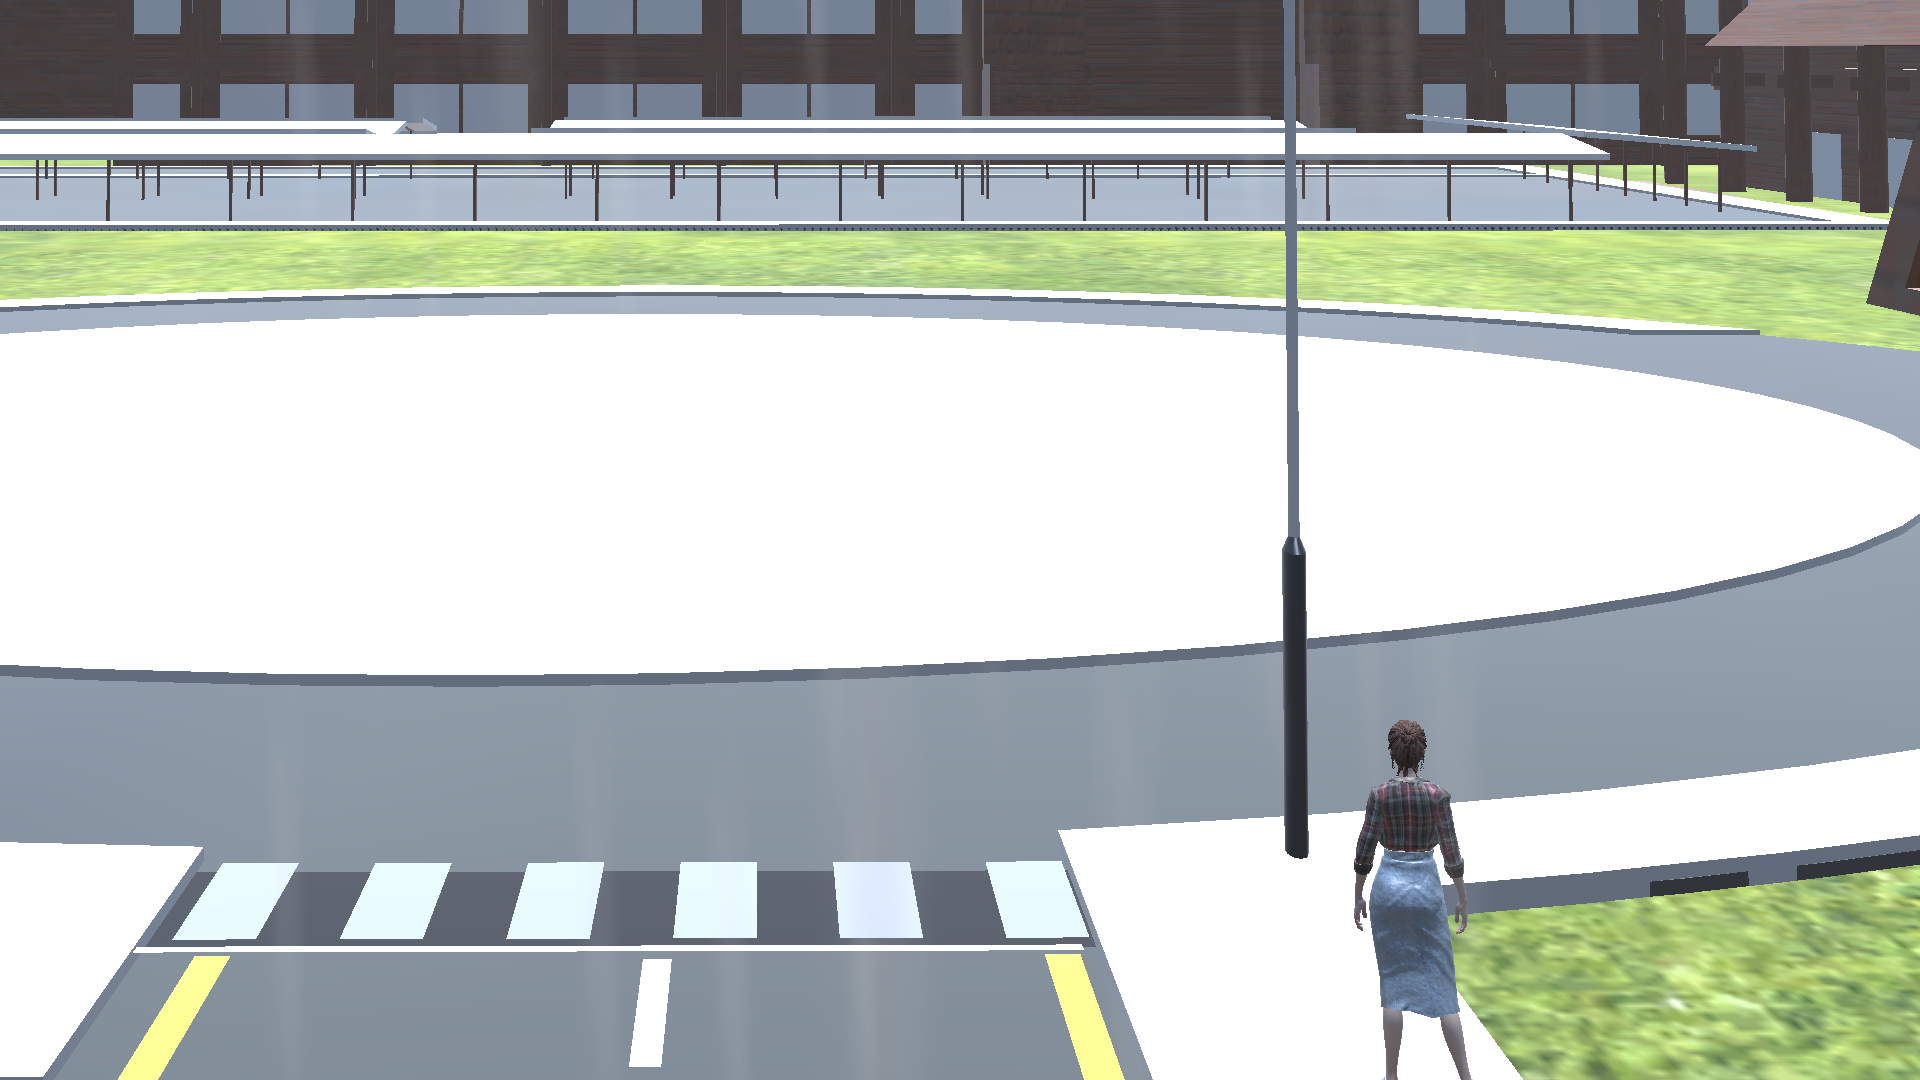pedestrian: (1349, 713, 1496, 1074)
